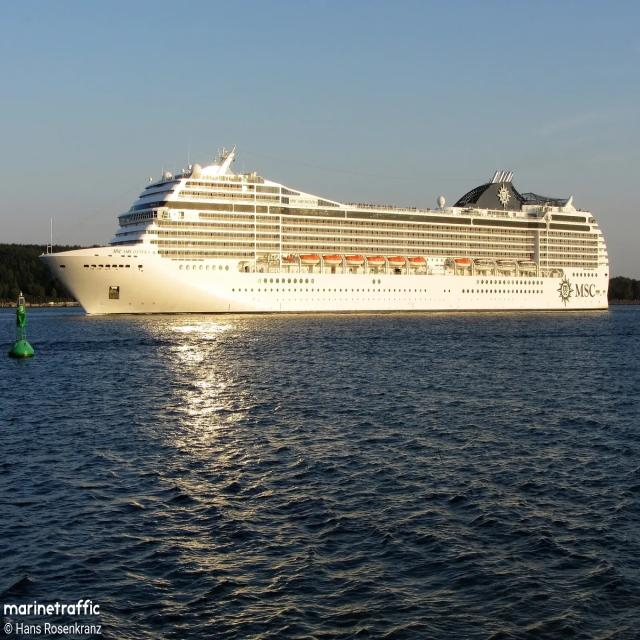Cruise: (40, 149, 609, 314)
